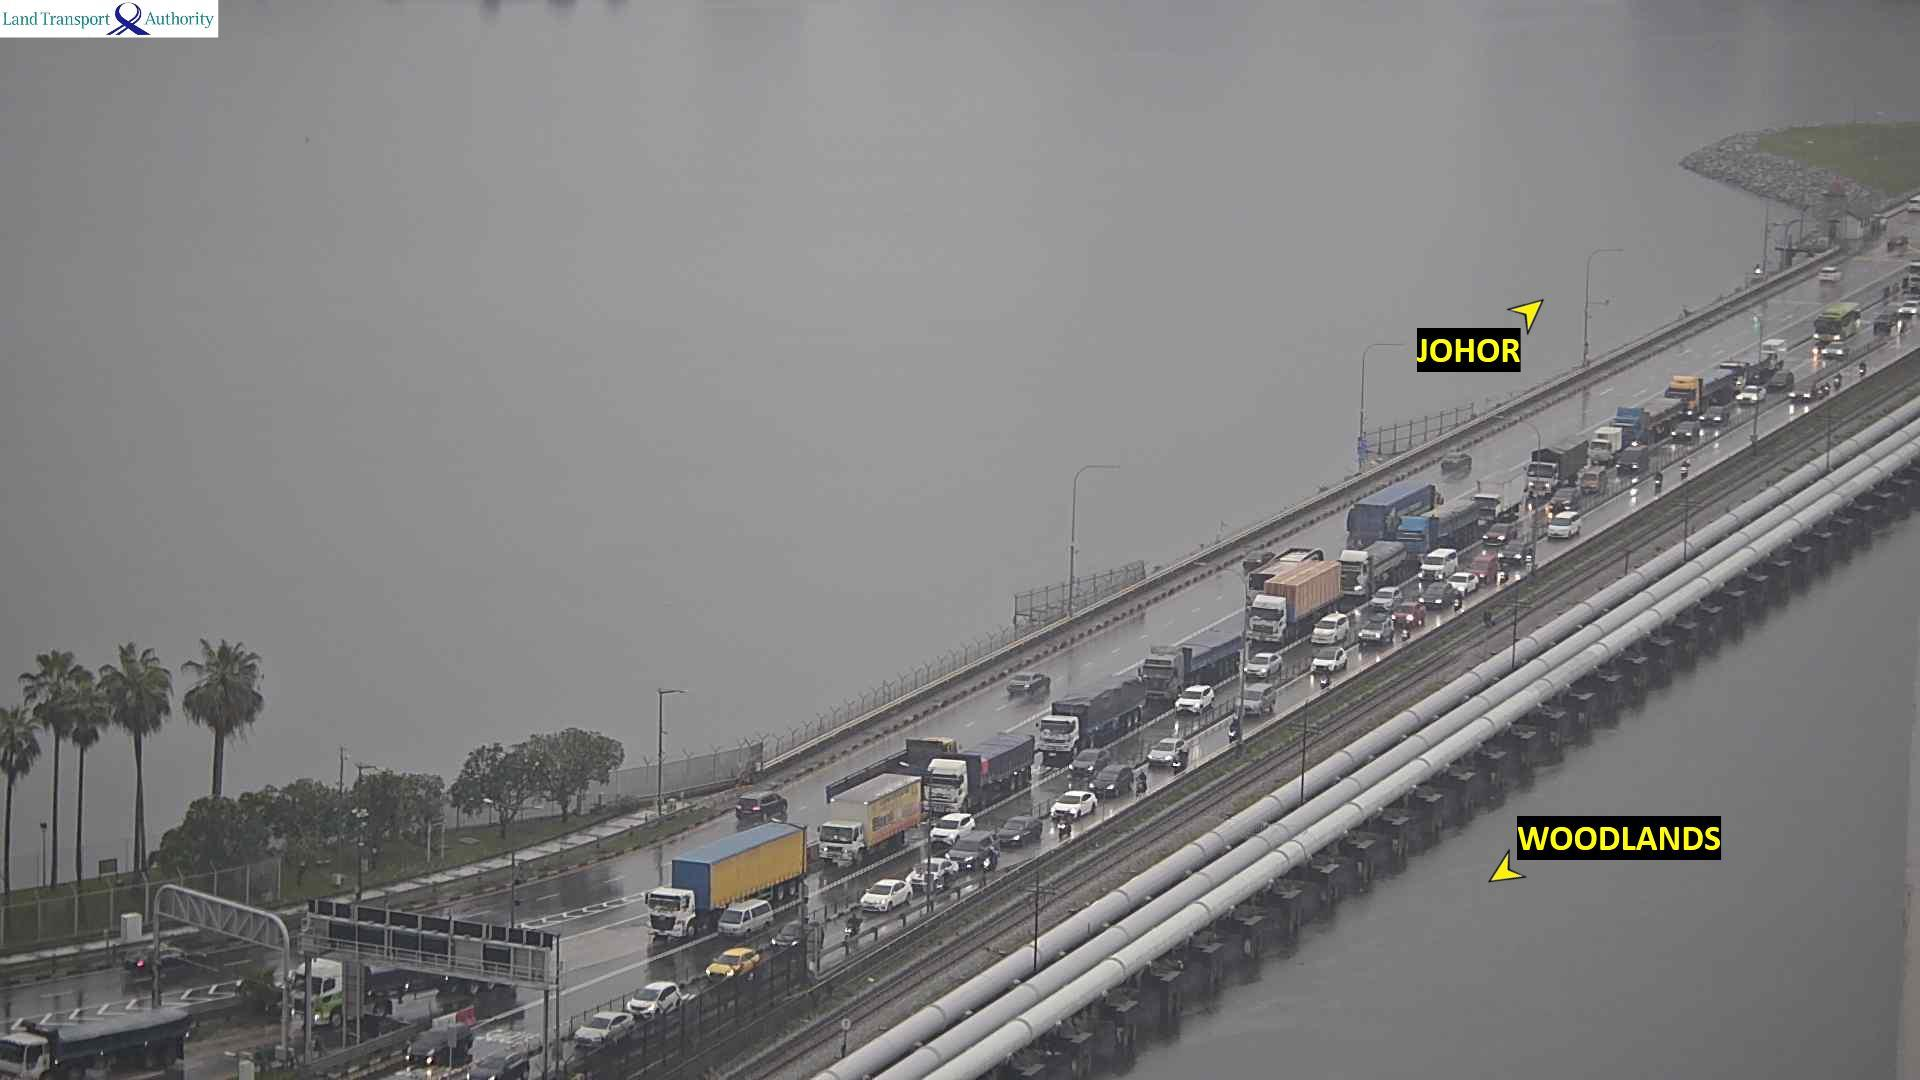vehicle-causeway-johor: (1349, 484, 1444, 541), (1247, 547, 1325, 591), (736, 791, 785, 812), (1009, 670, 1050, 695), (1443, 456, 1476, 471), (1244, 550, 1275, 564), (1817, 268, 1845, 281)
vehicle-causeway-singapore: (294, 960, 524, 1030), (0, 1015, 189, 1080), (657, 824, 803, 903), (825, 777, 920, 866), (918, 741, 1033, 814), (1034, 690, 1143, 757), (1246, 563, 1349, 630), (1400, 502, 1513, 551), (1137, 641, 1237, 692), (1337, 541, 1424, 589), (1530, 440, 1611, 487), (1605, 402, 1689, 443), (404, 1027, 472, 1069), (1664, 369, 1738, 402), (568, 1011, 634, 1044), (1722, 351, 1788, 382), (628, 986, 691, 1017), (855, 878, 911, 910), (467, 1052, 531, 1080), (719, 901, 773, 934), (127, 949, 206, 971), (949, 835, 996, 870), (1811, 305, 1862, 334), (708, 945, 754, 977), (773, 920, 823, 949), (930, 815, 982, 841), (910, 861, 956, 886), (1234, 684, 1274, 713), (1147, 742, 1192, 767), (1000, 819, 1042, 845), (1092, 766, 1129, 795), (1050, 791, 1097, 814), (1174, 691, 1217, 715), (1312, 613, 1345, 644), (1244, 653, 1280, 679), (1068, 750, 1106, 774), (1617, 447, 1648, 475), (1544, 520, 1582, 541), (1393, 601, 1425, 625), (1420, 583, 1453, 607), (1369, 592, 1408, 609), (1356, 628, 1395, 645), (1447, 574, 1482, 592), (1425, 546, 1466, 562), (1485, 524, 1515, 543), (1791, 380, 1816, 404), (1415, 566, 1456, 580), (1315, 657, 1352, 673), (1741, 389, 1770, 405), (1824, 342, 1851, 357), (1229, 717, 1241, 742), (1679, 459, 1691, 479), (1137, 773, 1146, 795), (1059, 818, 1068, 839), (1833, 373, 1841, 388), (1655, 473, 1663, 487), (1859, 360, 1866, 376)
